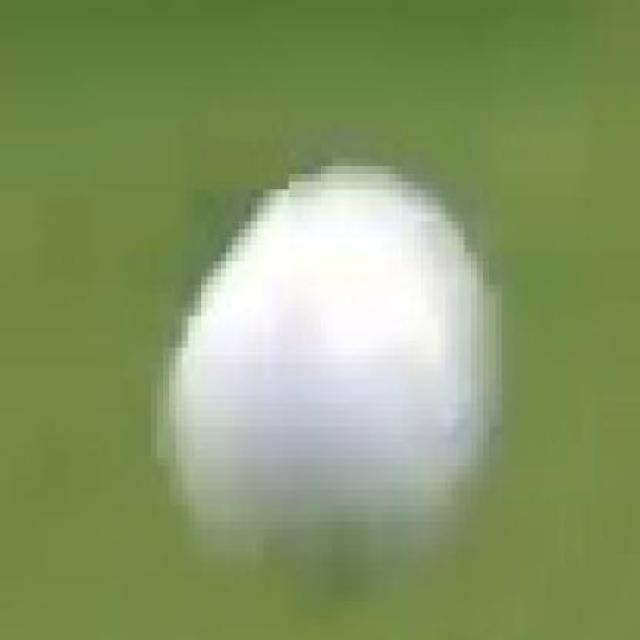Cricket ball: (157, 159, 500, 594)
